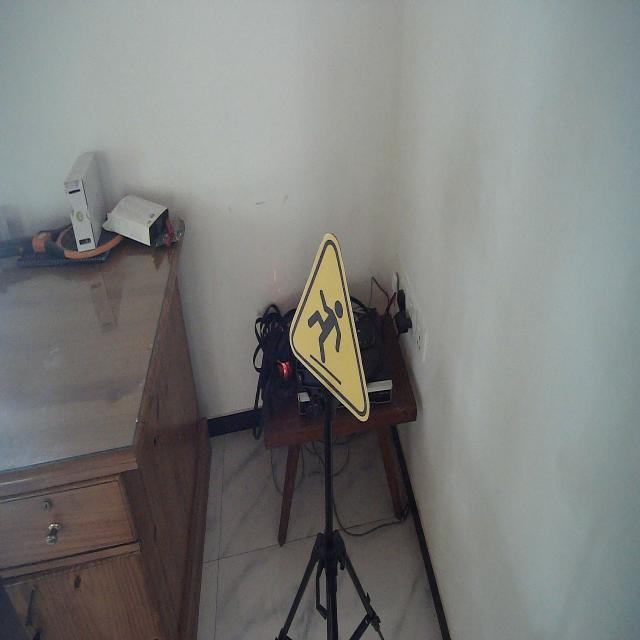slippery_sign: (287, 230, 372, 426)
